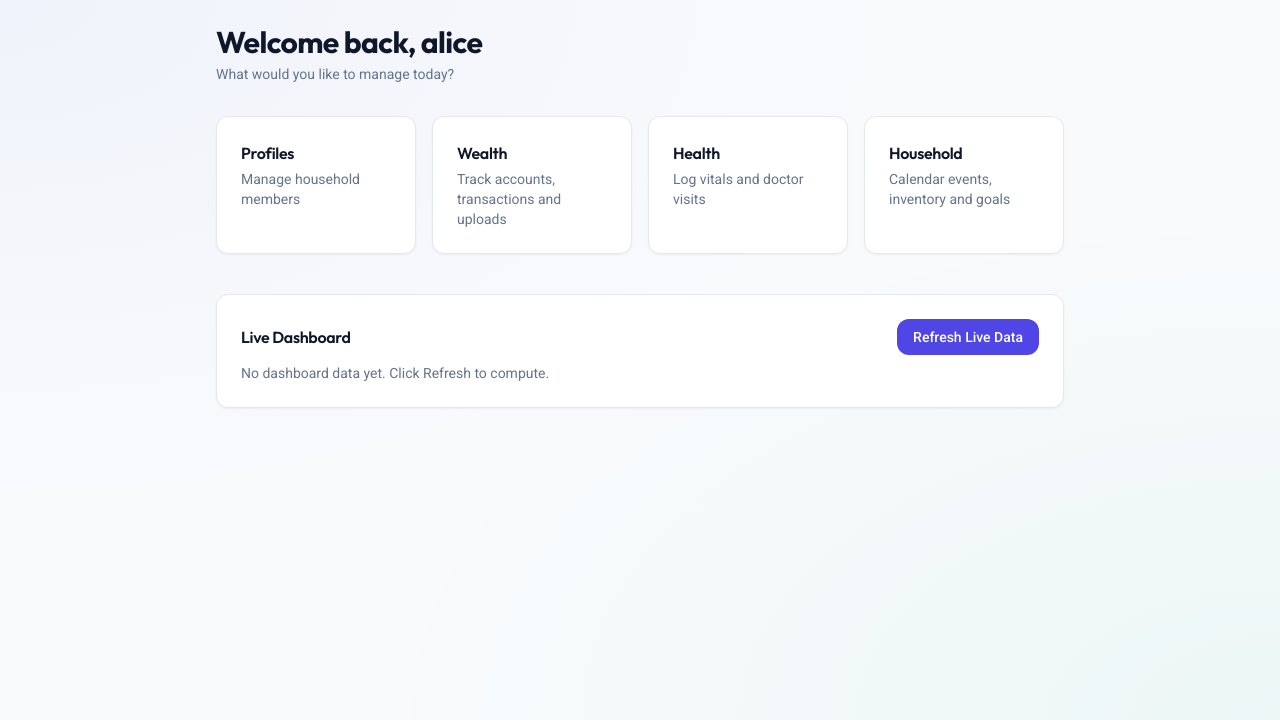
Test: Dashboard › shows snapshot summary metrics after successful refresh
Click the button "Refresh Live Data": [968, 337] box [897,319,1039,355]
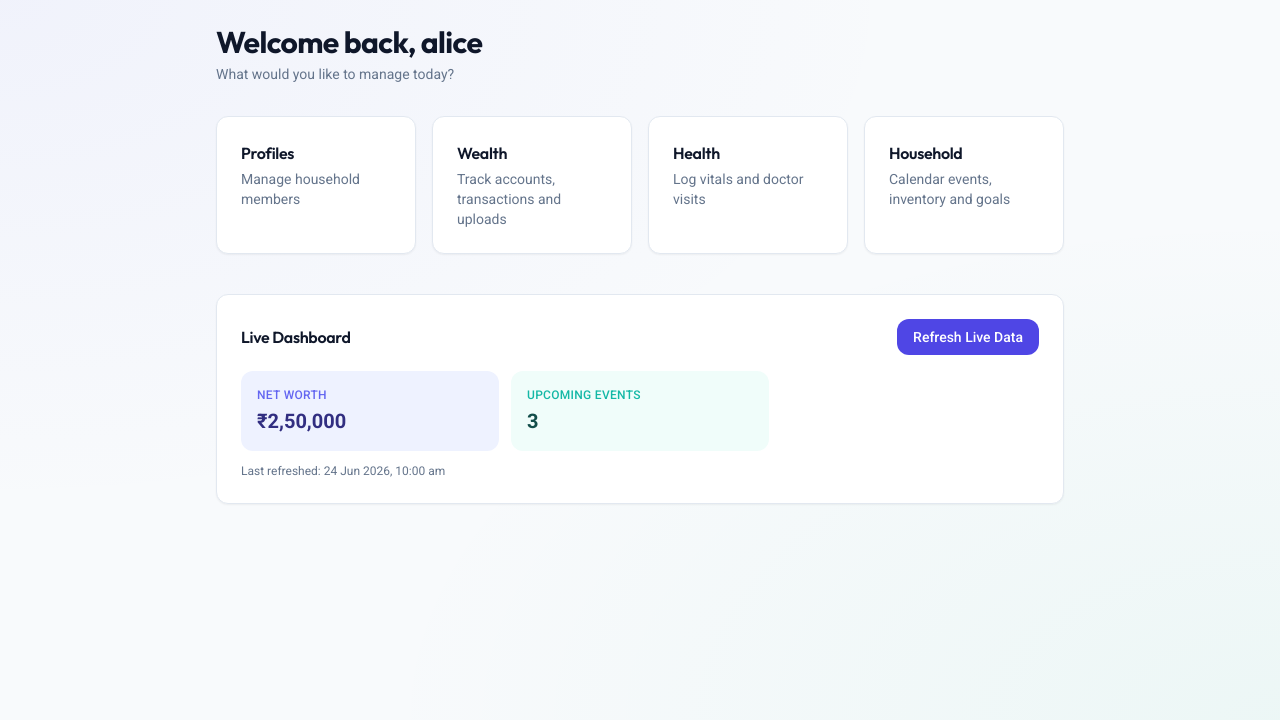
Expected: the text "Net Worth" is shown, [257,388,327,402]
Expected: the text "Upcoming Events" is shown, [527,388,641,402]
